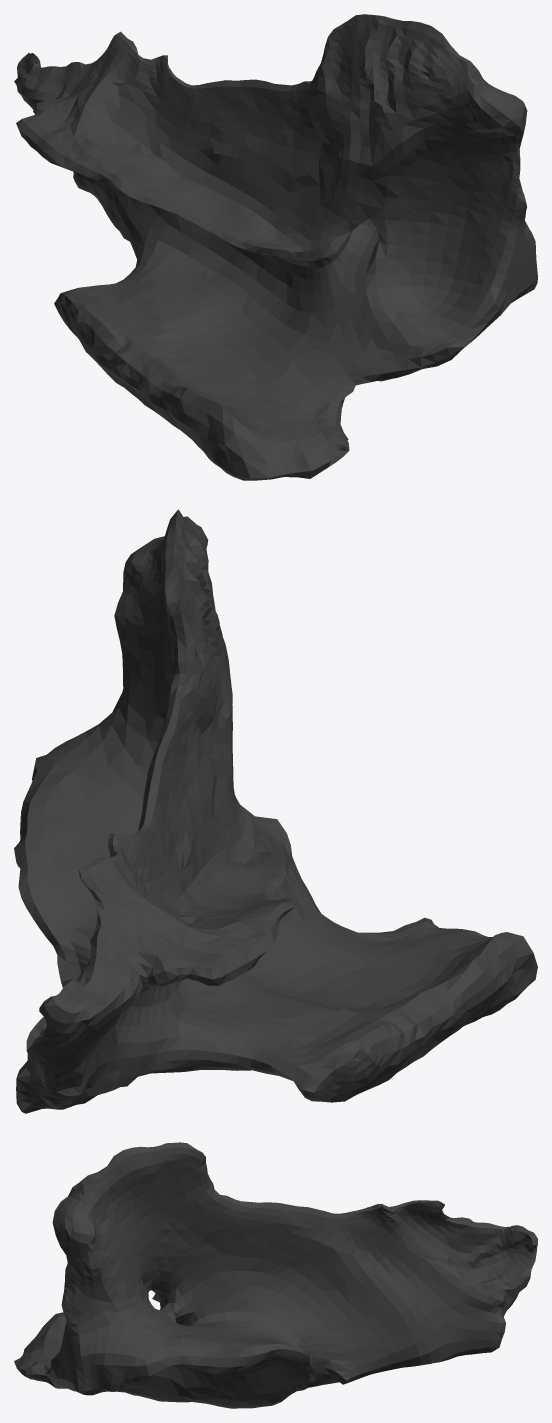
The model's file is Palatine_L.glb.
3 views of the same model, one above another, from view 1: azimuth 30°, elevation 25°; view 2: azimuth 150°, elevation 25°; view 3: azimuth 270°, elevation 25° (orthographic). The views are drawn at different scales.
Parts seen in each view (by area): view 1: Palatine_L; view 2: Palatine_L; view 3: Palatine_L.
Part boxes in pixels (left/top/right/bottom): Palatine_L: left=14, top=14, right=537, bottom=480; Palatine_L: left=14, top=509, right=537, bottom=1113; Palatine_L: left=14, top=1142, right=537, bottom=1408.
Size of the model in its own units: 173 by 169 by 270.
Materials: 1 (1 with a texture image).
